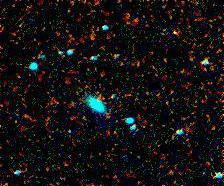star: (161, 18, 191, 48)
